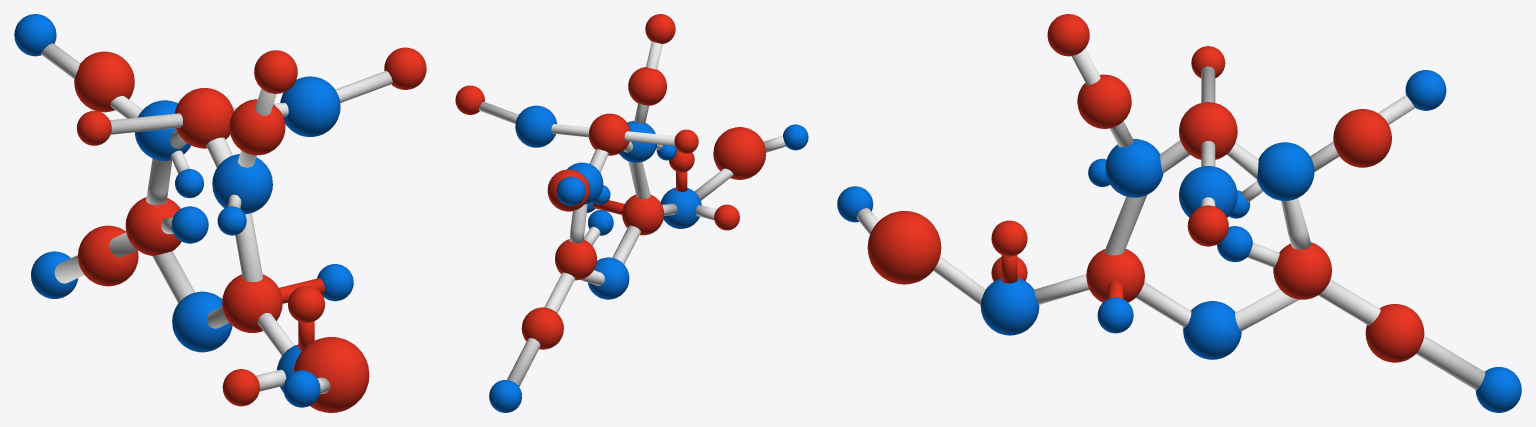
File: glucose_molecule.glb
3 views of the same model, side by side, from view 1: azimuth 30°, elevation 25°; view 2: azimuth 150°, elevation 25°; view 3: azimuth 270°, elevation 25° (orthographic). The views are drawn at different scales.
Parts seen in each view (by area): view 1: Sphere014; view 2: Sphere014; view 3: Sphere014.
Part boxes in pixels (bbox=[...]): Sphere014: bbox=[14, 14, 426, 412]; Sphere014: bbox=[455, 14, 808, 412]; Sphere014: bbox=[837, 14, 1521, 412].
Size of the model in its own units: 7.37 by 8.32 by 13.08.
